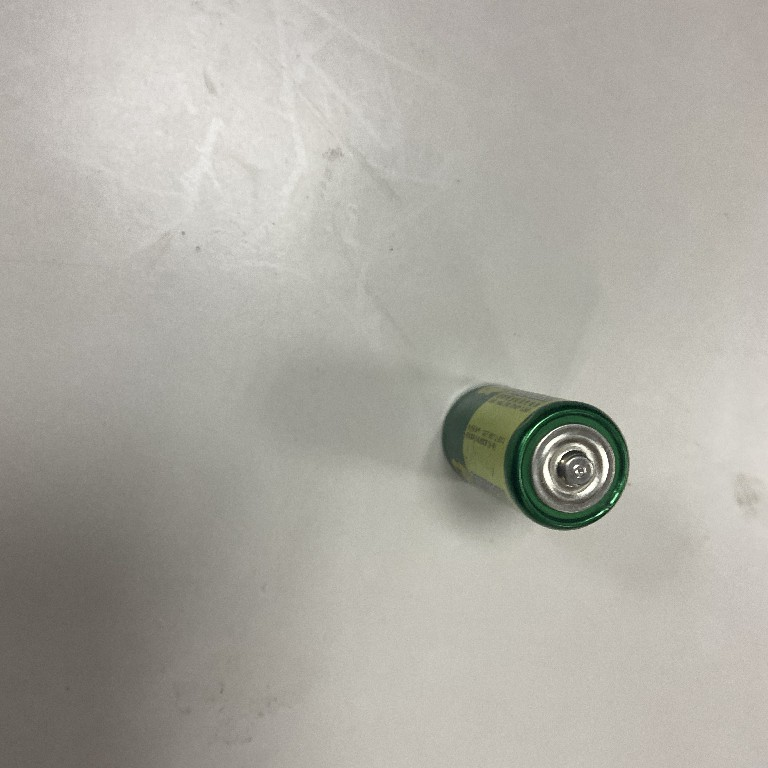charge: (438, 373, 633, 534)
